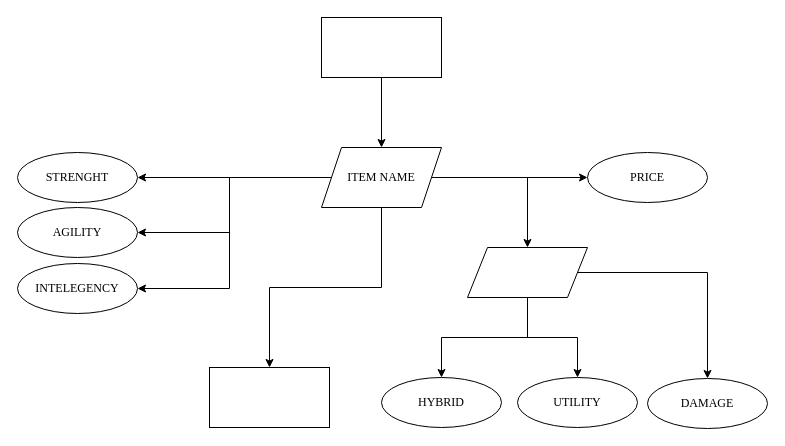
Image size: 785x446. Some labels were removed from this diagram. Here are the shapes that lost their labels. From the top down, the box of each, then its label:
(320, 16, 442, 78): HERO
(466, 246, 588, 298): TYPE
(208, 366, 330, 428): ITEM ROLE
